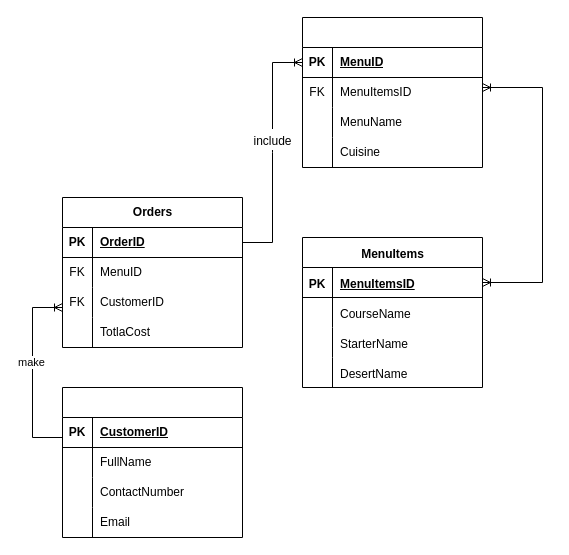
Image size: 569x555. Some labels were removed from this diagram. Here are the shapes that lost their labels. From the top down, the box of each, then its label:
(302, 16, 482, 168): Menus
(62, 386, 242, 538): Customers
